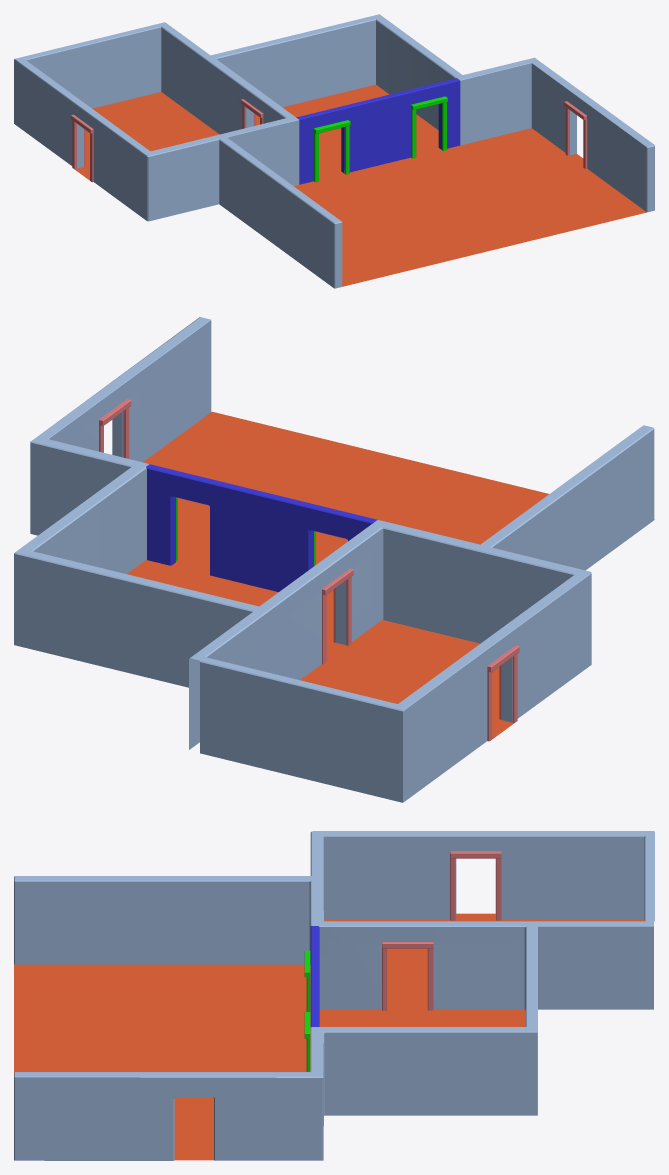
The model's file is VloerenEnMuurMetTweedeKamer.fbx.
3 renders of one model, top to bottom at view 1: azimuth 30°, elevation 25°; view 2: azimuth 150°, elevation 25°; view 3: azimuth 270°, elevation 25°, orthographic. The views are drawn at different scales.
Visible parts, largest first — view 1: Muren, Vloer, MurenKamer2, MurenTrans, VloerKamer2, DeurpostenTrans, Deurposten, DeurpostenKamer2; view 2: Muren, MurenKamer2, Vloer, MurenTrans, VloerKamer2, Deurposten, DeurpostenKamer2; view 3: Muren, Vloer, MurenKamer2, VloerKamer2, DeurpostenKamer2, Deurposten, MurenTrans, DeurpostenTrans.
Boxes of the visible parts, bbox=[...] form: Muren: bbox=[203, 14, 654, 288]; Vloer: bbox=[255, 84, 646, 286]; MurenKamer2: bbox=[14, 22, 219, 221]; MurenTrans: bbox=[296, 78, 460, 184]; VloerKamer2: bbox=[75, 92, 219, 180]; DeurpostenTrans: bbox=[313, 96, 447, 182]; Deurposten: bbox=[241, 99, 587, 168]; DeurpostenKamer2: bbox=[71, 114, 93, 182]; Muren: bbox=[14, 317, 654, 687]; MurenKamer2: bbox=[189, 547, 591, 802]; Vloer: bbox=[127, 411, 654, 660]; MurenTrans: bbox=[146, 464, 377, 592]; VloerKamer2: bbox=[300, 620, 514, 738]; Deurposten: bbox=[99, 399, 353, 664]; DeurpostenKamer2: bbox=[487, 645, 519, 741]; Muren: bbox=[14, 876, 537, 1160]; Vloer: bbox=[14, 964, 525, 1160]; MurenKamer2: bbox=[310, 831, 654, 1009]; VloerKamer2: bbox=[324, 913, 644, 1004]; DeurpostenKamer2: bbox=[450, 851, 501, 920]; Deurposten: bbox=[382, 942, 433, 1010]; MurenTrans: bbox=[310, 926, 319, 1026]; DeurpostenTrans: bbox=[304, 950, 310, 1071].
Bounding box in the file's own units: 1231 × 194 × 1345.
